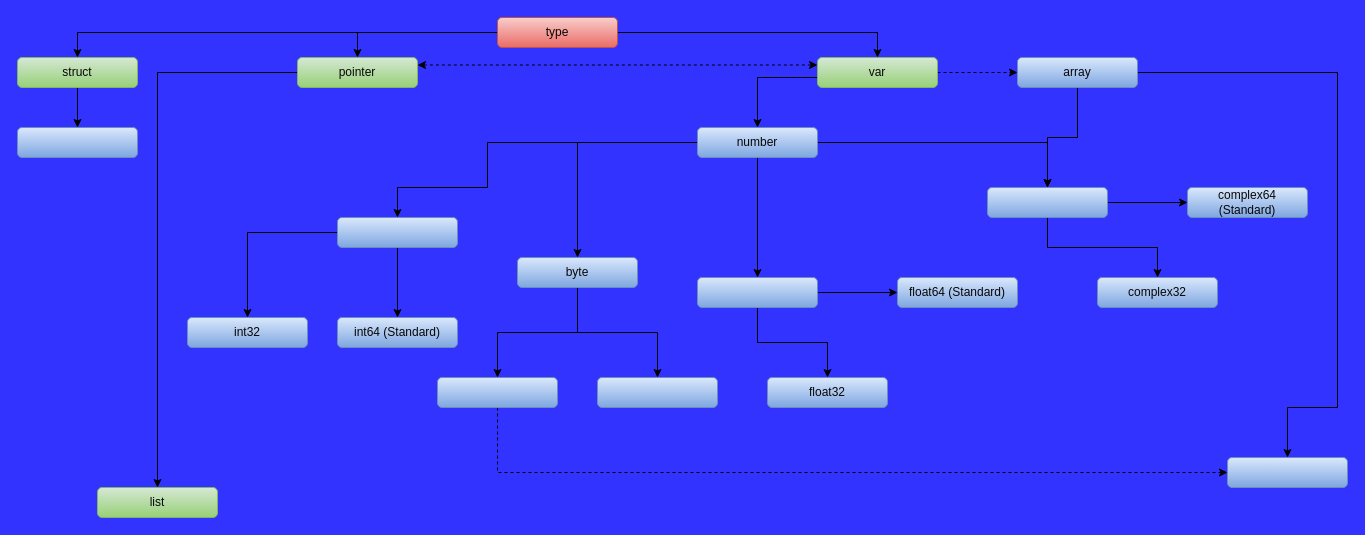
This 1365x535 diagram has some shape labels left out. Each missing label, with the centre of its shape:
"byte64" belongs at pixel 657 392.
"byte8 (Standard)" belongs at pixel 497 392.
"complex" belongs at pixel 1047 202.
"float" belongs at pixel 757 292.
"int (Standard)" belongs at pixel 397 232.
"string" belongs at pixel 1287 472.
"struct (Standard)" belongs at pixel 77 142.
